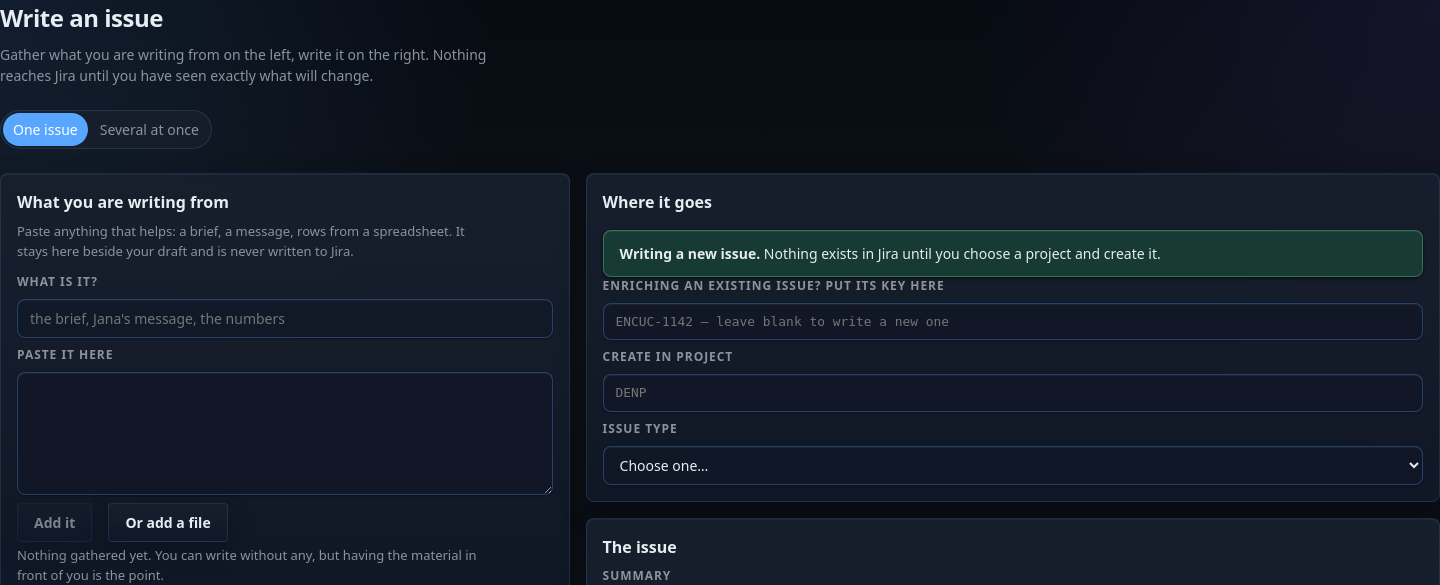
saying what it is about to do › changes what it says the moment the key is typed
Type "ENCUC-1142" into the field labelled "Enriching an existing issue? Put its key here" at (1013, 322), box [603,303,1423,340]
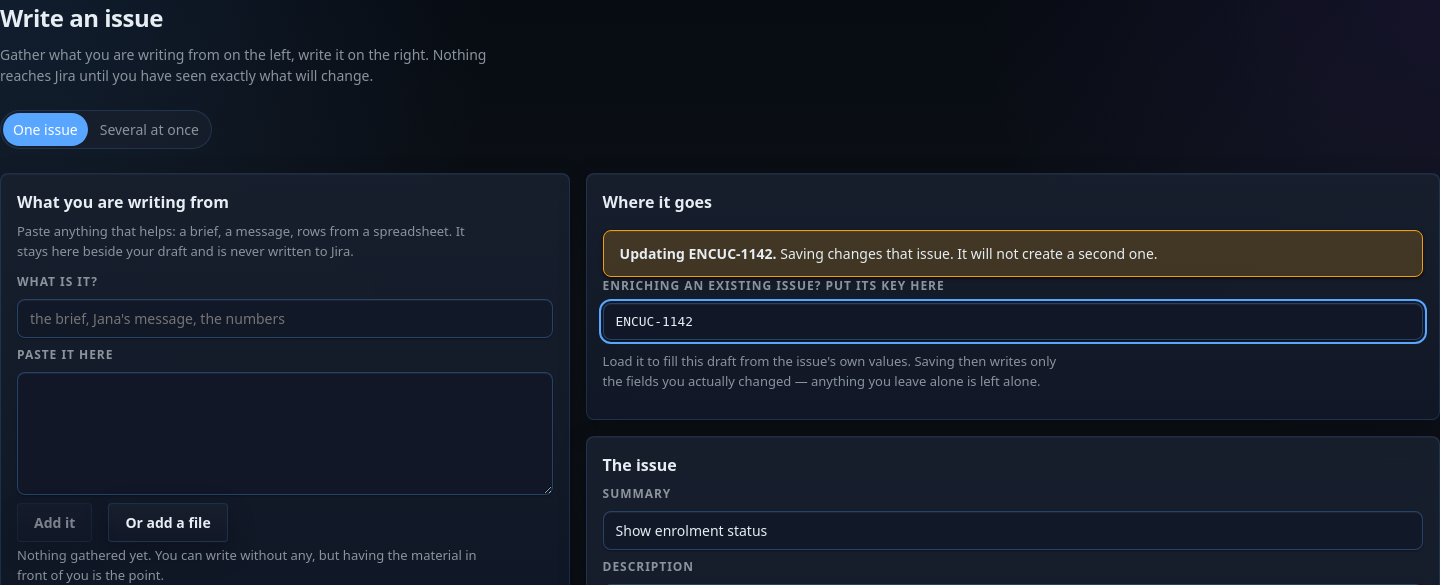
Result: the text "Updating ENCUC-1142." is shown at [620,244,777,263]
